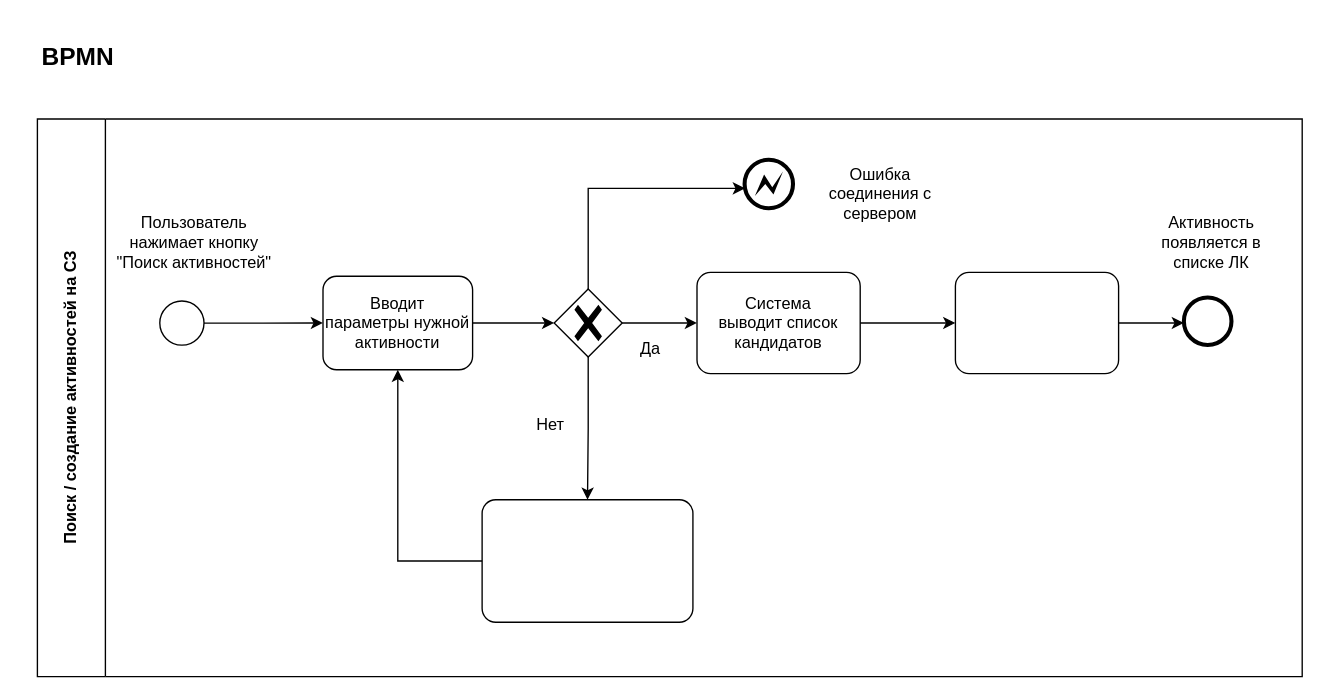
Some shapes in this 1326 by 700 pixel diagram are drawn without their labels. Each missing label, with the centre of its shape:
"Пользователь выбирает кандидата и метчится" belongs at (1036,322).
"система предлагает изменить параметры поиска или создать самим активность" belongs at (587,560).
